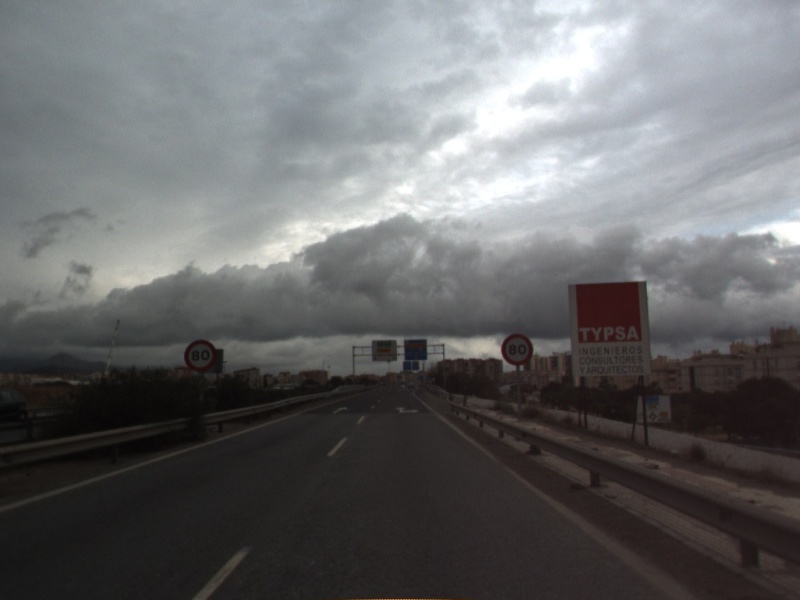STRAIGHT: (329, 404, 350, 416)
STRAIGHT_RIGHT: (393, 404, 421, 416)
